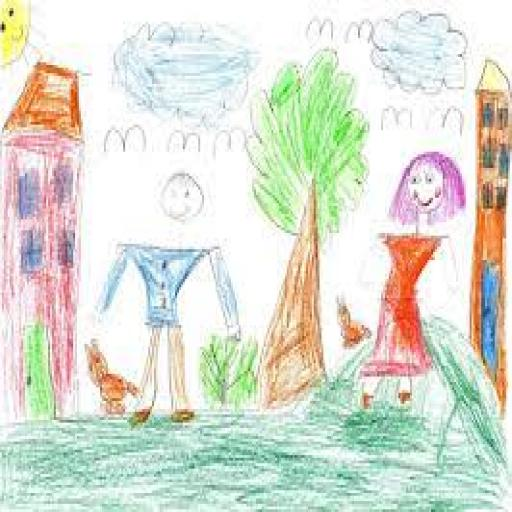person: (94, 168, 248, 432), (352, 144, 467, 424)
